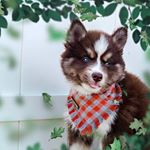puppy: (54, 17, 133, 146)
